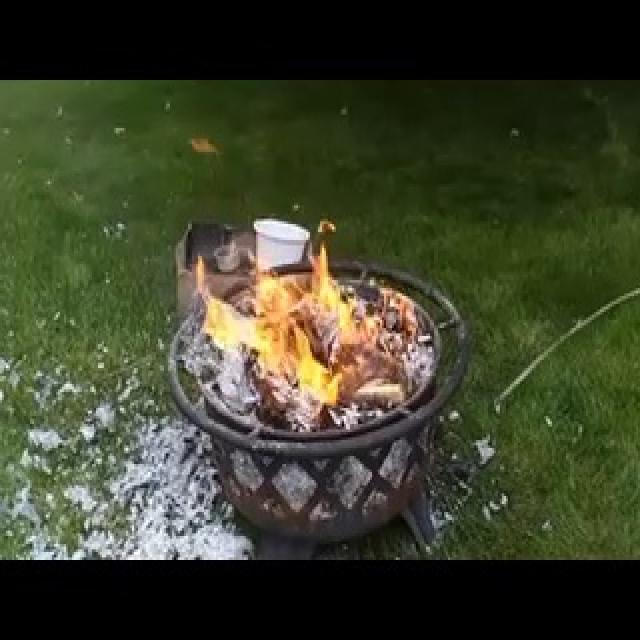fire: (145, 150, 419, 422)
